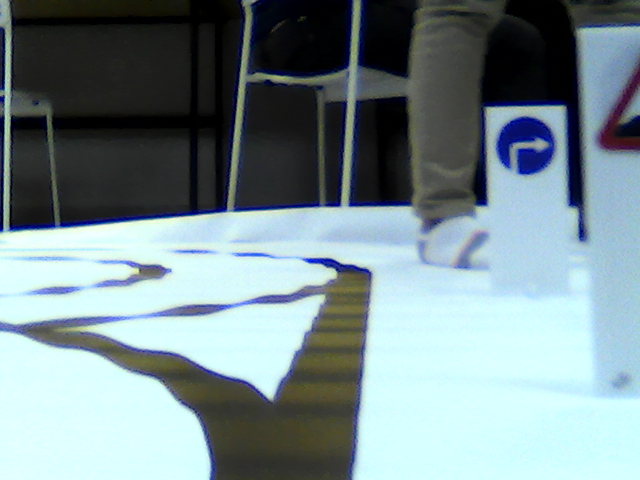Right: (495, 117, 557, 175)
